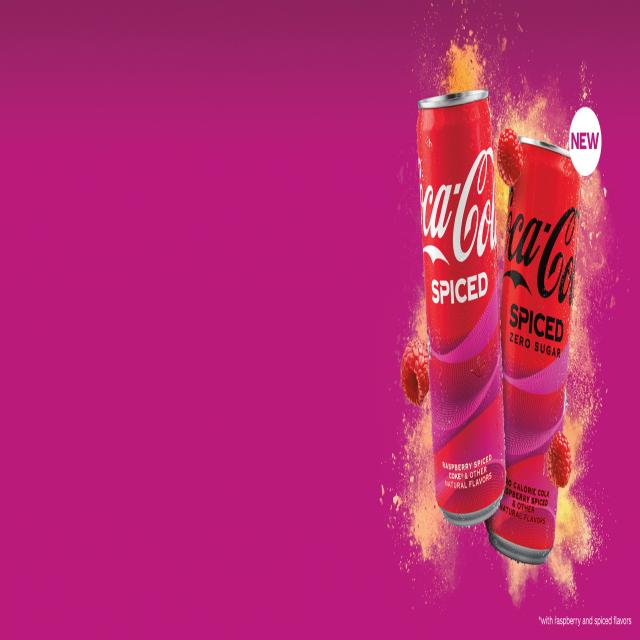cocacola: (419, 86, 501, 541), (502, 115, 572, 580)
